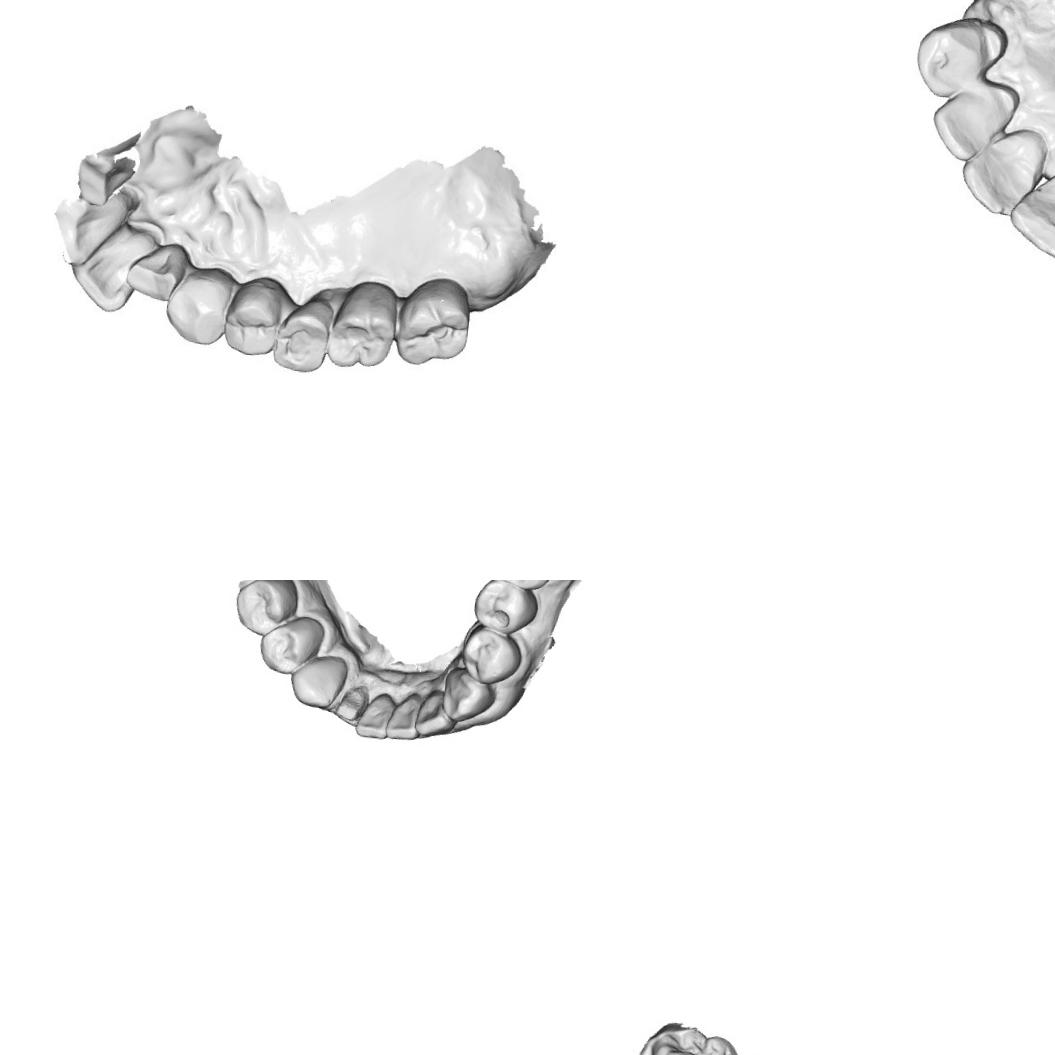canine: (910, 8, 1007, 106), (161, 262, 239, 348), (286, 651, 349, 712), (440, 665, 498, 724)
crown: (335, 684, 369, 722)
incisor: (955, 121, 1050, 222), (926, 75, 1024, 170), (66, 225, 157, 324), (46, 187, 132, 273), (1008, 150, 1055, 263), (135, 242, 186, 297), (413, 688, 460, 741), (384, 690, 422, 742), (354, 690, 390, 740)
molar: (390, 272, 476, 372), (641, 1013, 744, 1055)
premolar: (320, 279, 402, 374), (220, 271, 292, 362), (269, 291, 338, 376), (458, 624, 524, 688), (231, 580, 301, 639), (471, 580, 541, 637), (256, 617, 314, 676)
